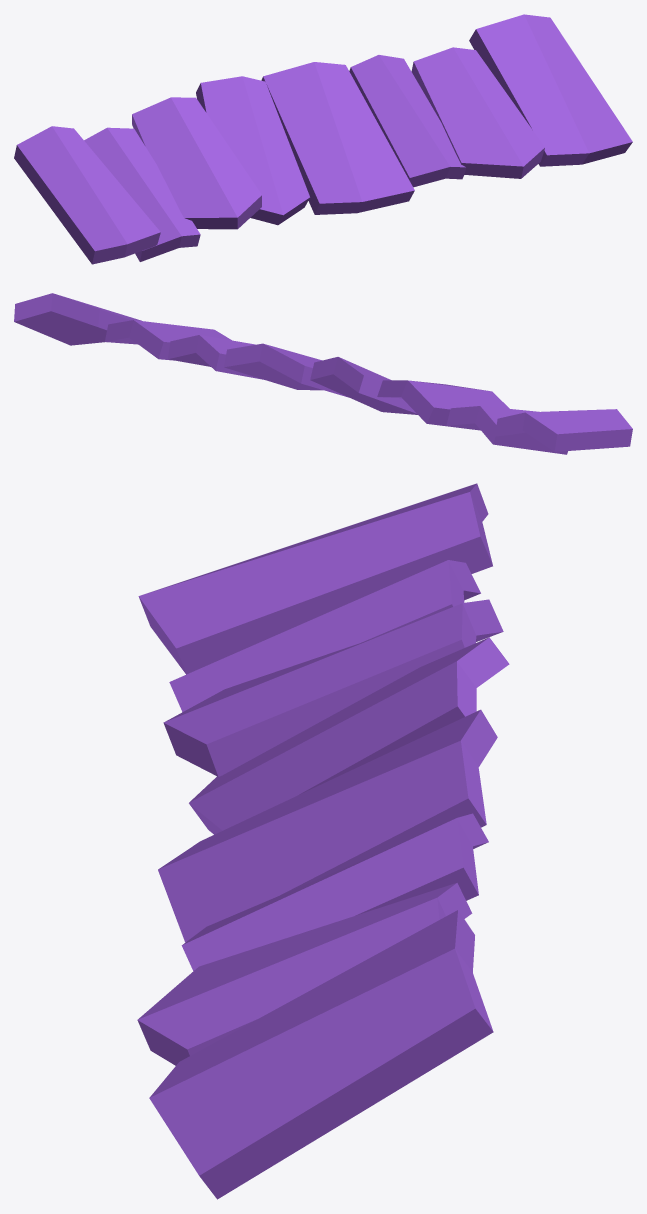
File: Roof 02 Finish Bottom.fbx
3 views of the same model, one above another, from view 1: azimuth 30°, elevation 25°; view 2: azimuth 150°, elevation 25°; view 3: azimuth 270°, elevation 25° (orthographic). The views are drawn at different scales.
Visible parts, largest first — view 1: Roof 02 Finish Bottom; view 2: Roof 02 Finish Bottom; view 3: Roof 02 Finish Bottom.
Boxes of the visible parts, box(x1,y1,x2,y2) form: Roof 02 Finish Bottom: box(14, 14, 632, 264); Roof 02 Finish Bottom: box(14, 293, 632, 454); Roof 02 Finish Bottom: box(137, 483, 509, 1199).
Bounding box in the file's own units: 422 × 82.46 × 125.
